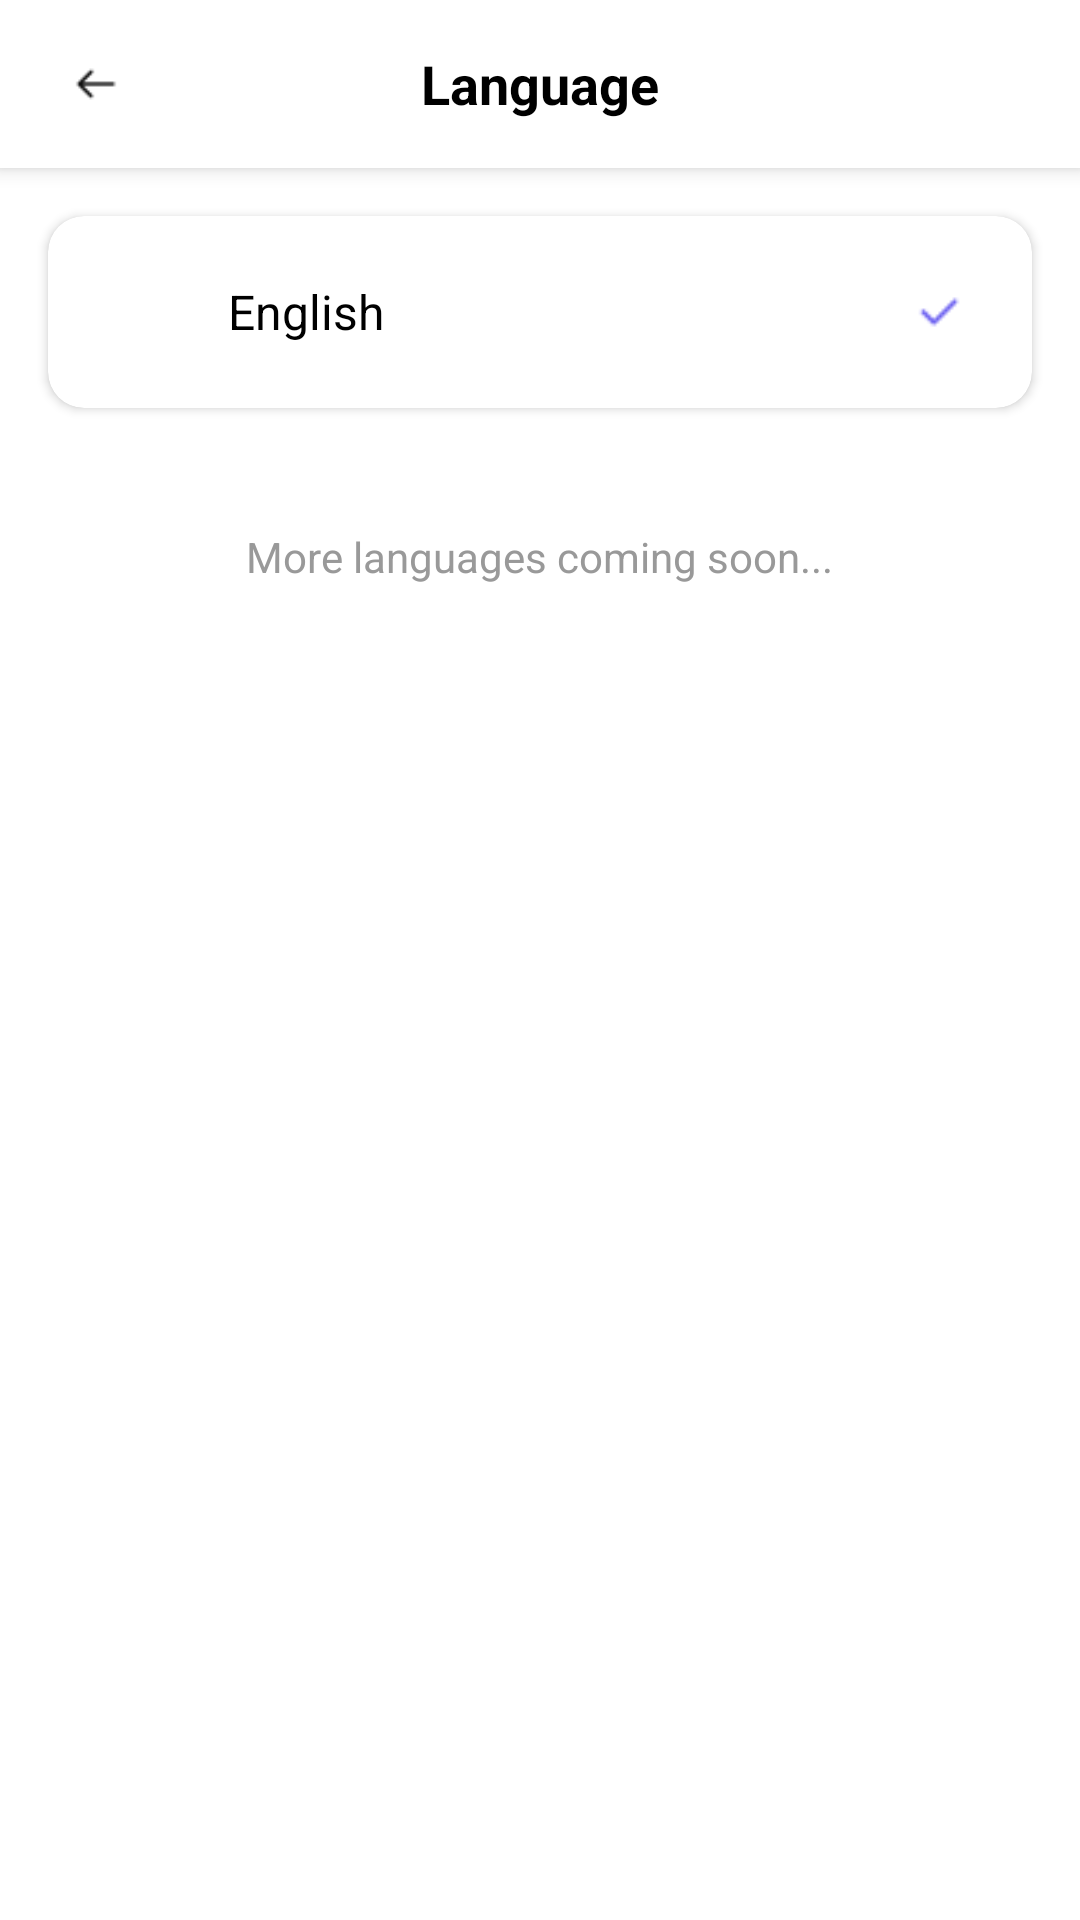

Icon click points for this 1080*1920 phone screenshot, format (x=x, y=y):
back: (x=96, y=84)
check: (x=939, y=312)
